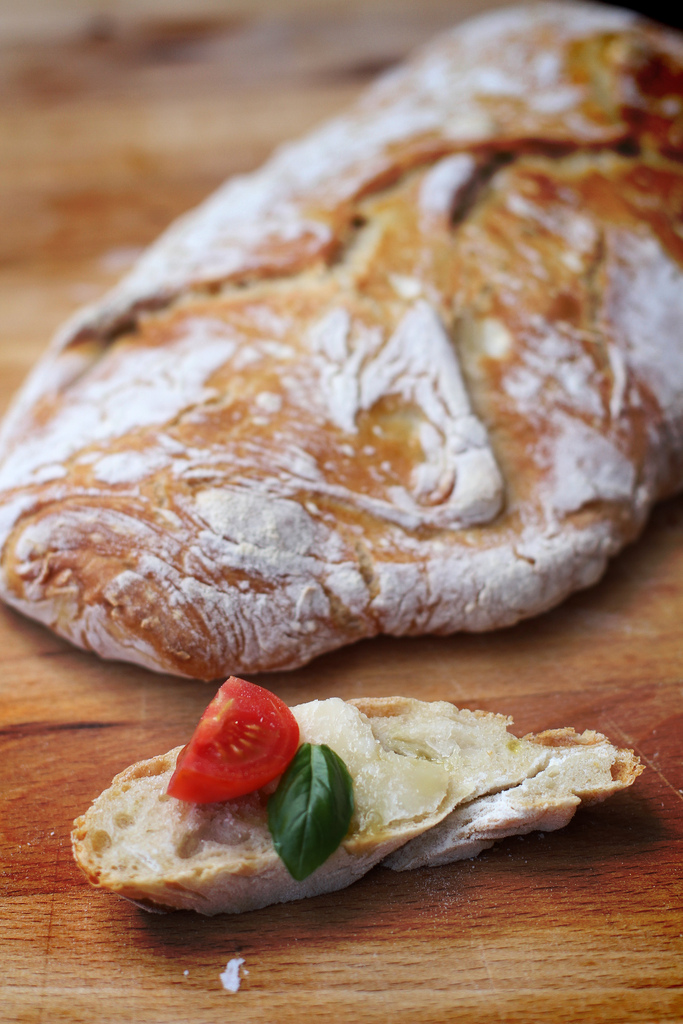slice of bread: (2, 21, 683, 650), (74, 724, 629, 922)
